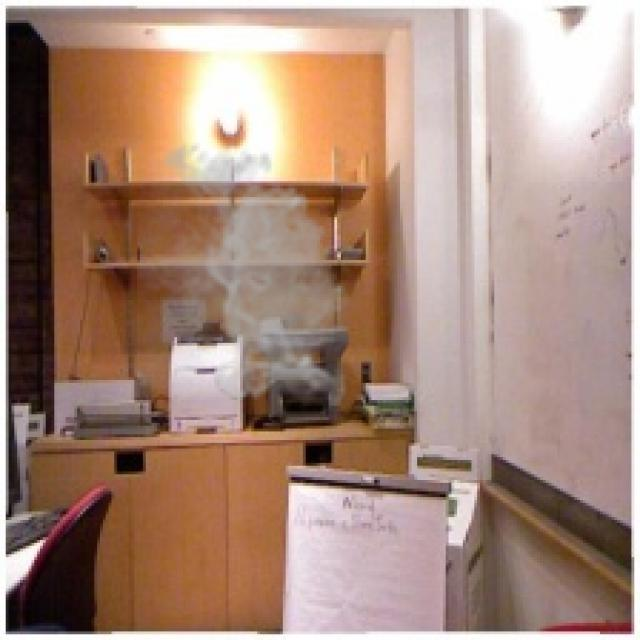smoke: (137, 134, 357, 406)
